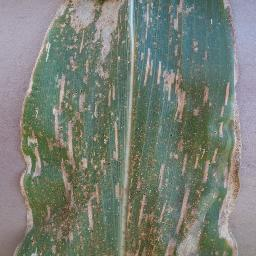Gray_Leaf_Spot: (8, 122, 245, 256), (33, 0, 157, 82), (46, 80, 138, 123), (163, 0, 207, 67), (223, 0, 241, 120), (175, 66, 190, 123), (190, 83, 211, 118), (21, 75, 33, 123), (158, 70, 173, 99)
